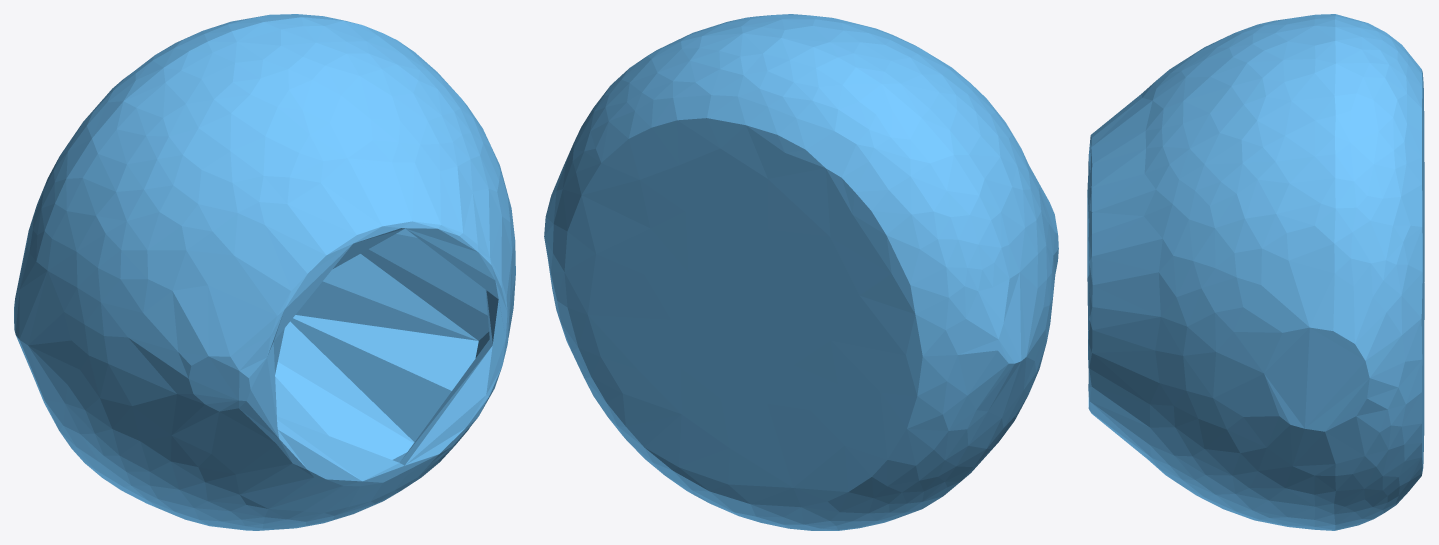
Rendered from part_1_Teapot_Body_wrapped.obj.
3 views of the same model, side by side, from view 1: azimuth 30°, elevation 25°; view 2: azimuth 150°, elevation 25°; view 3: azimuth 270°, elevation 25° (orthographic). The views are drawn at different scales.
Visible parts, largest first — view 1: part_1_Teapot_Body_wrapped; view 2: part_1_Teapot_Body_wrapped; view 3: part_1_Teapot_Body_wrapped.
Part boxes in pixels (x1,y1,x2,y2): part_1_Teapot_Body_wrapped: (14,14,515,530); part_1_Teapot_Body_wrapped: (544,14,1058,530); part_1_Teapot_Body_wrapped: (1087,14,1424,530).
Bounding box in the file's own units: 0.7732 × 0.769 × 0.5009.
